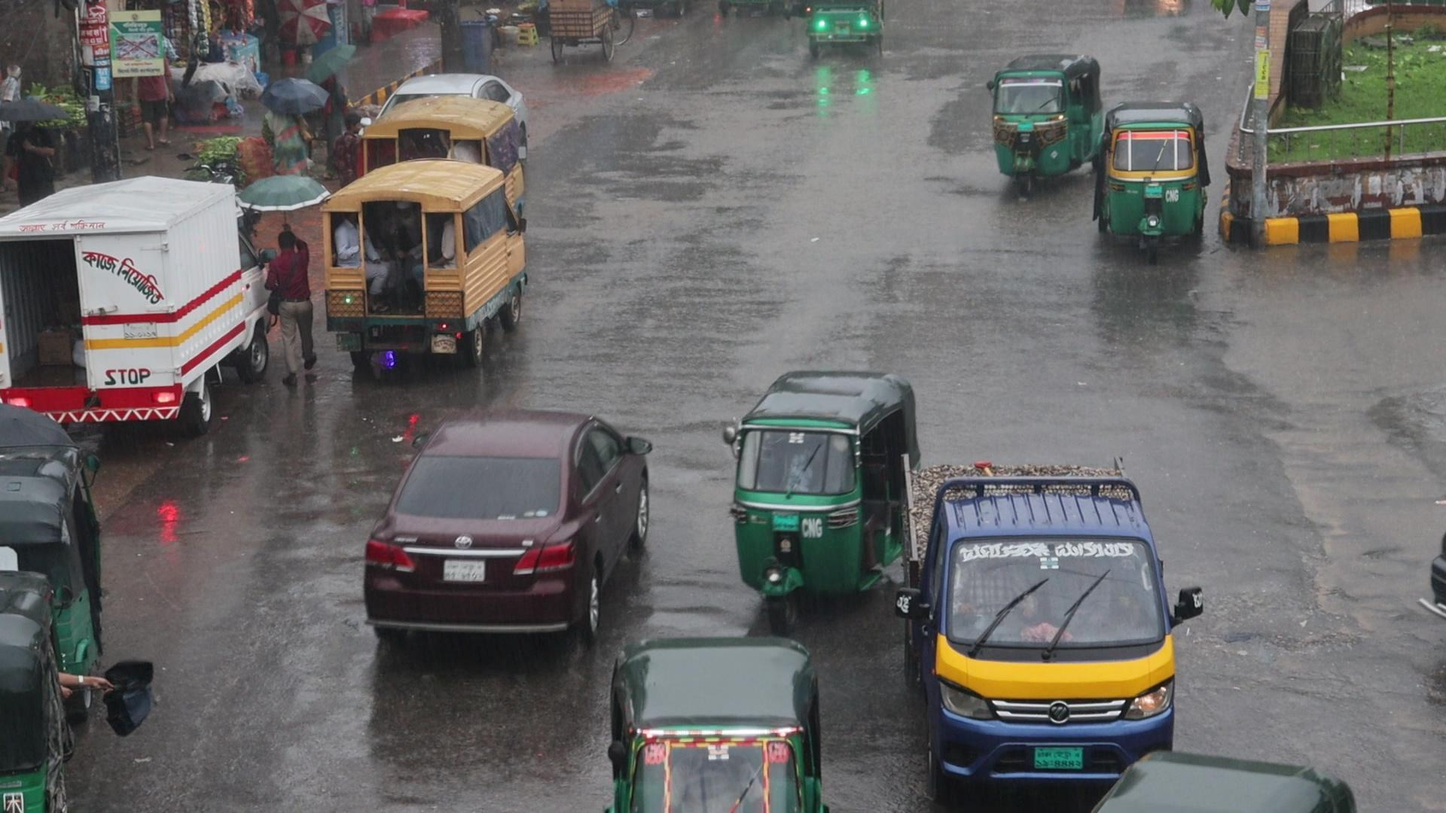Car: (363, 394, 656, 668)
Truck: (895, 439, 1189, 813), (309, 155, 522, 384)
